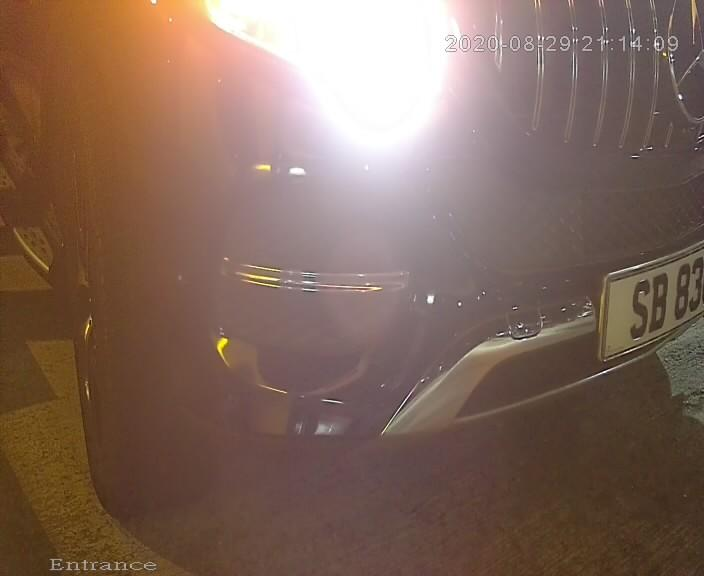License Plate: (593, 221, 704, 378)
